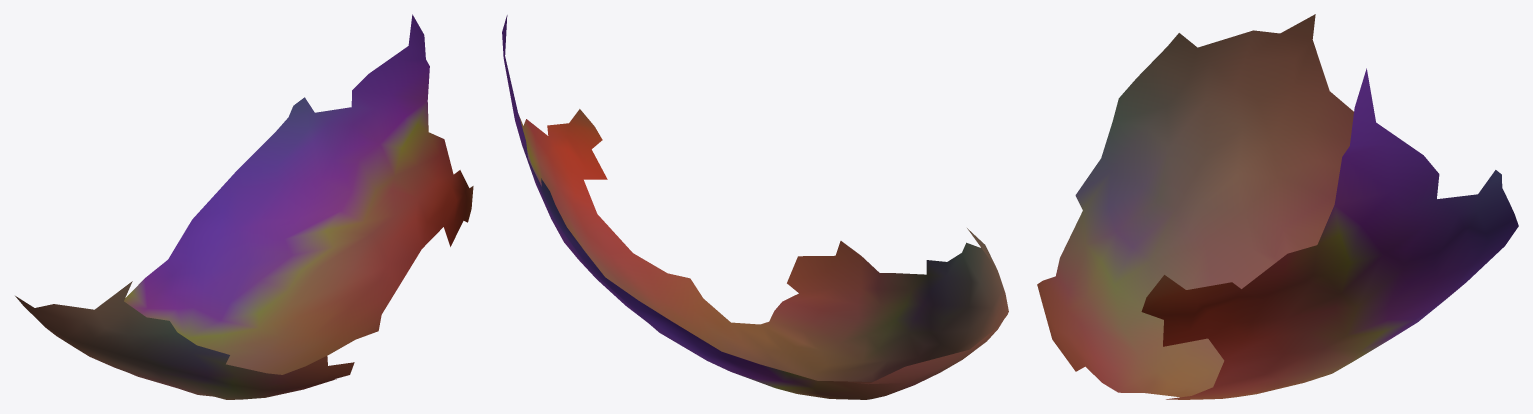
Rendered from space-nebulae-nebula_v64.glb.
The picture shows the model from 3 angles, left to right: view 1: azimuth 30°, elevation 25°; view 2: azimuth 150°, elevation 25°; view 3: azimuth 270°, elevation 25°; orthographic projection. The views are drawn at different scales.
Visible parts, largest first — view 1: Nebula_v64; view 2: Nebula_v64; view 3: Nebula_v64.
Part boxes in pixels (box(x1,y1,x2,y2)): Nebula_v64: box(15, 14, 473, 399); Nebula_v64: box(502, 15, 1008, 399); Nebula_v64: box(1037, 14, 1518, 399).
Size of the model in its own units: 0.5 by 0.3285 by 0.3004.
